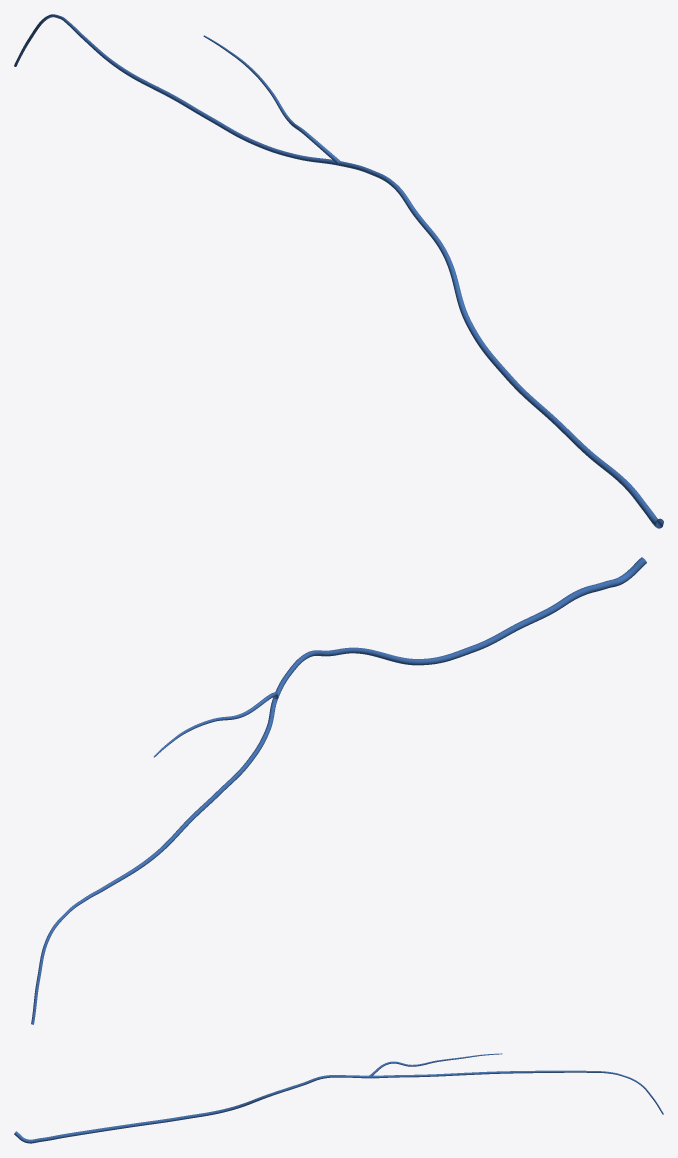
The picture shows the model from 3 angles, top to bottom: view 1: azimuth 30°, elevation 25°; view 2: azimuth 150°, elevation 25°; view 3: azimuth 270°, elevation 25°; orthographic projection. The views are drawn at different scales.
Parts seen in each view (by area): view 1: 右侧大隐静脉; view 2: 右侧大隐静脉; view 3: 右侧大隐静脉.
Part boxes in pixels (x1,y1,x2,y2): 右侧大隐静脉: (14,14,663,528); 右侧大隐静脉: (31,557,646,1024); 右侧大隐静脉: (14,1053,663,1143).
Bounding box in the file's own units: 0.0776 × 0.1756 × 1.17.
